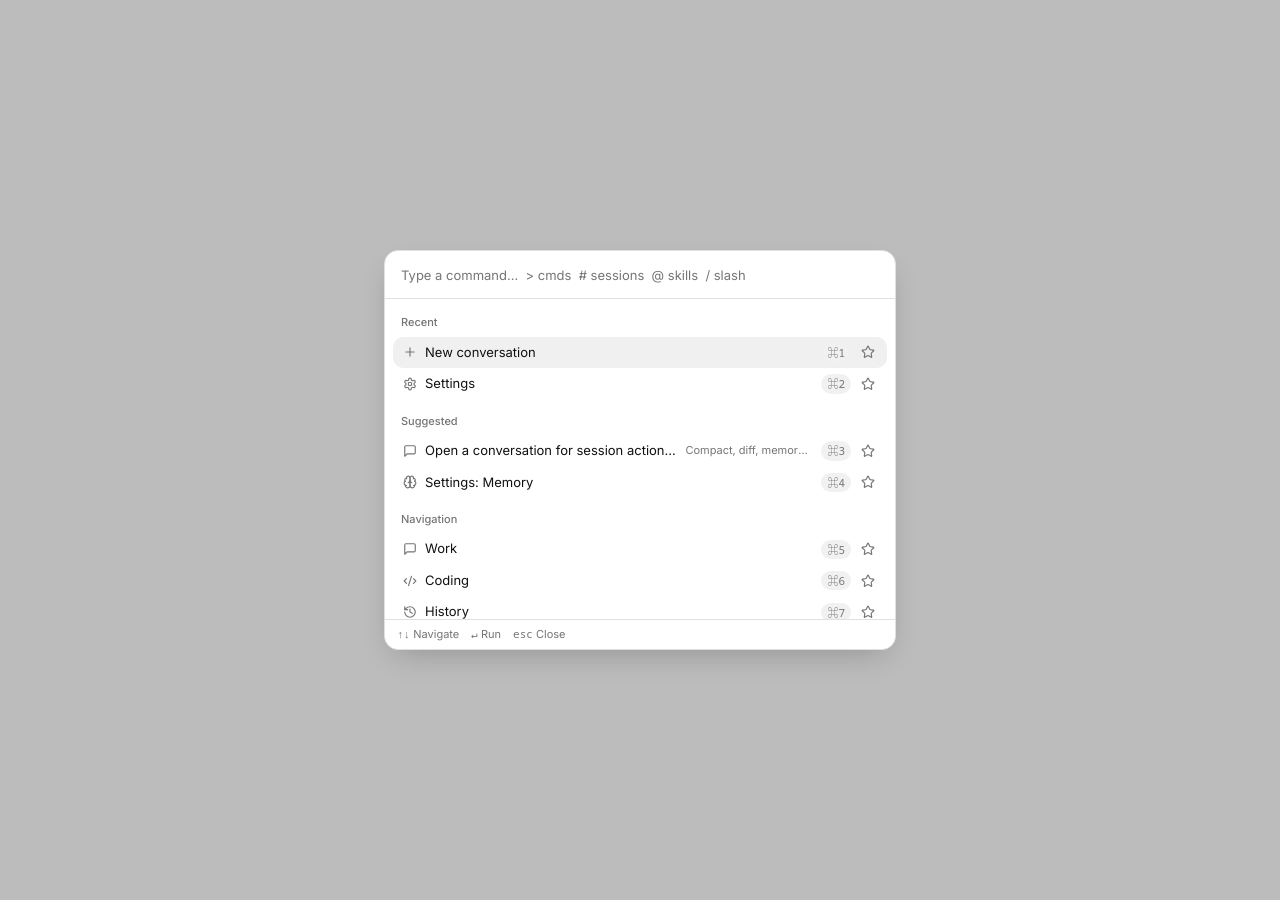
GlobalCommandPalette actions and sessions › shows no-results when search matches nothing
This screenshot has width=1280, height=900.
Type "zzzz-nope" into the dropdown with test id "global-command-palette-input".
click(640, 275); type("zzzz-nope")  # box [385,251,895,299]
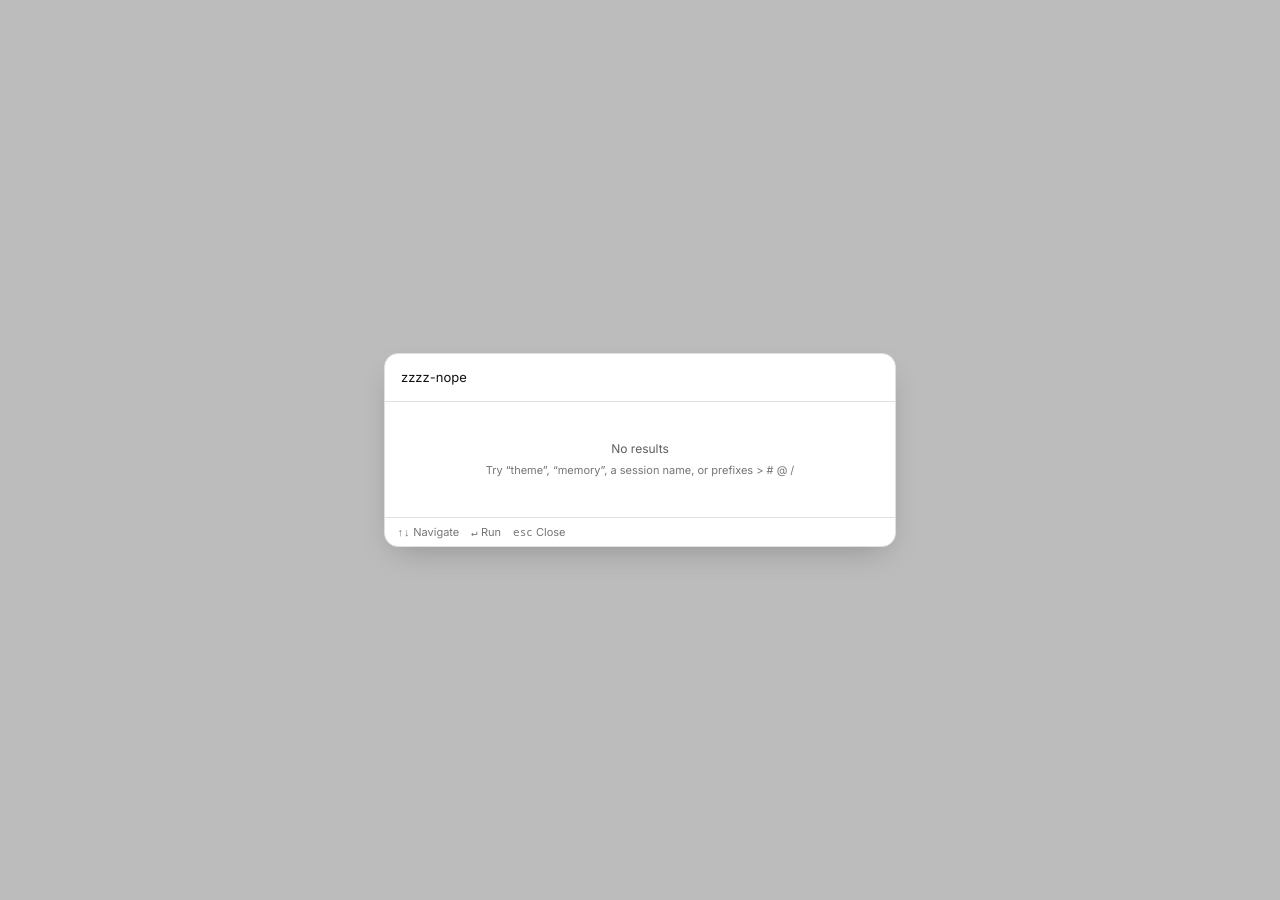
Expected: the message with test id "global-command-palette-empty" shows "No results", [611,441,669,456]
